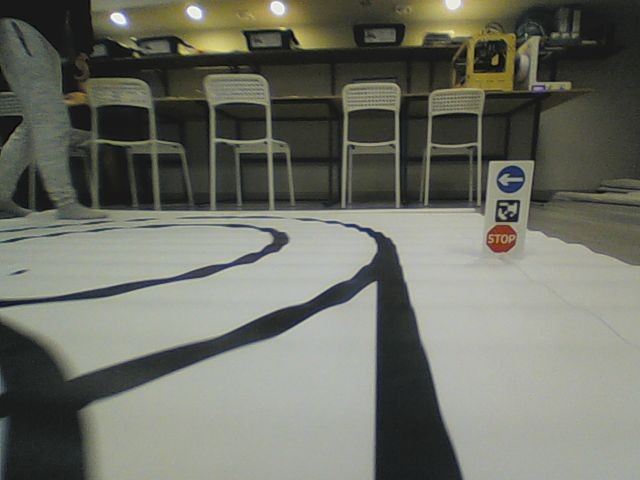Stop: (485, 223, 518, 254)
